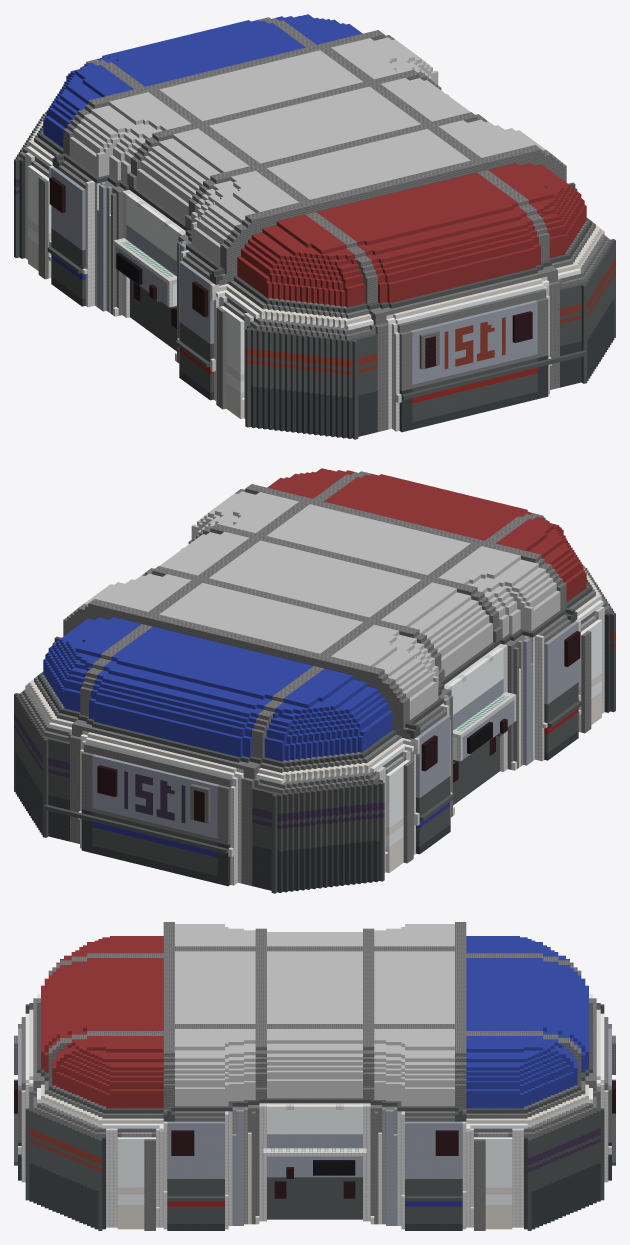
Rendered from minecraft.obj.
The picture shows the model from 3 angles, top to bottom: view 1: azimuth 30°, elevation 25°; view 2: azimuth 150°, elevation 25°; view 3: azimuth 270°, elevation 25°; orthographic projection. The views are drawn at different scales.
Bounding box in the file's own units: 105 × 46 × 157.
